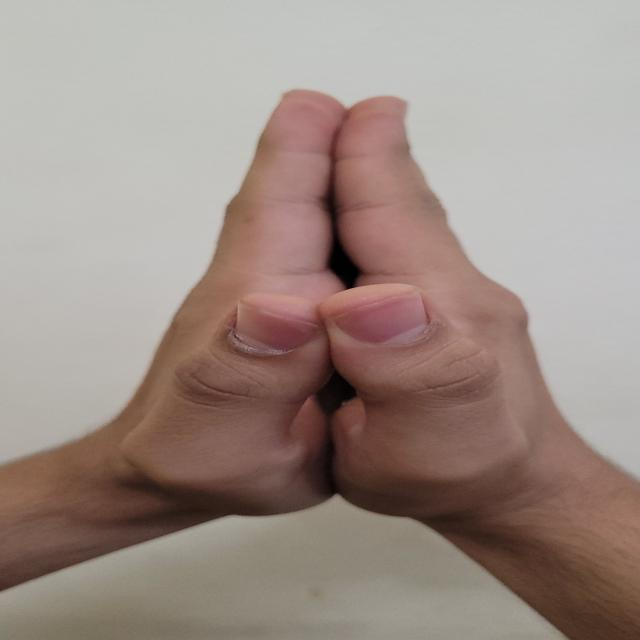Thank You: (75, 77, 640, 640)
